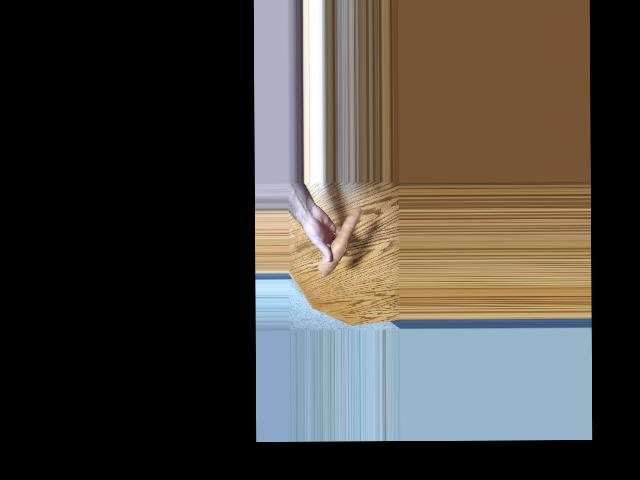sweet_potato: (320, 208, 357, 283)
